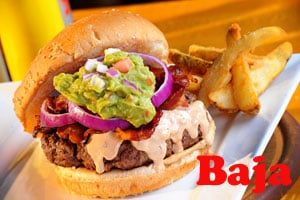soup: (9, 16, 216, 195)
